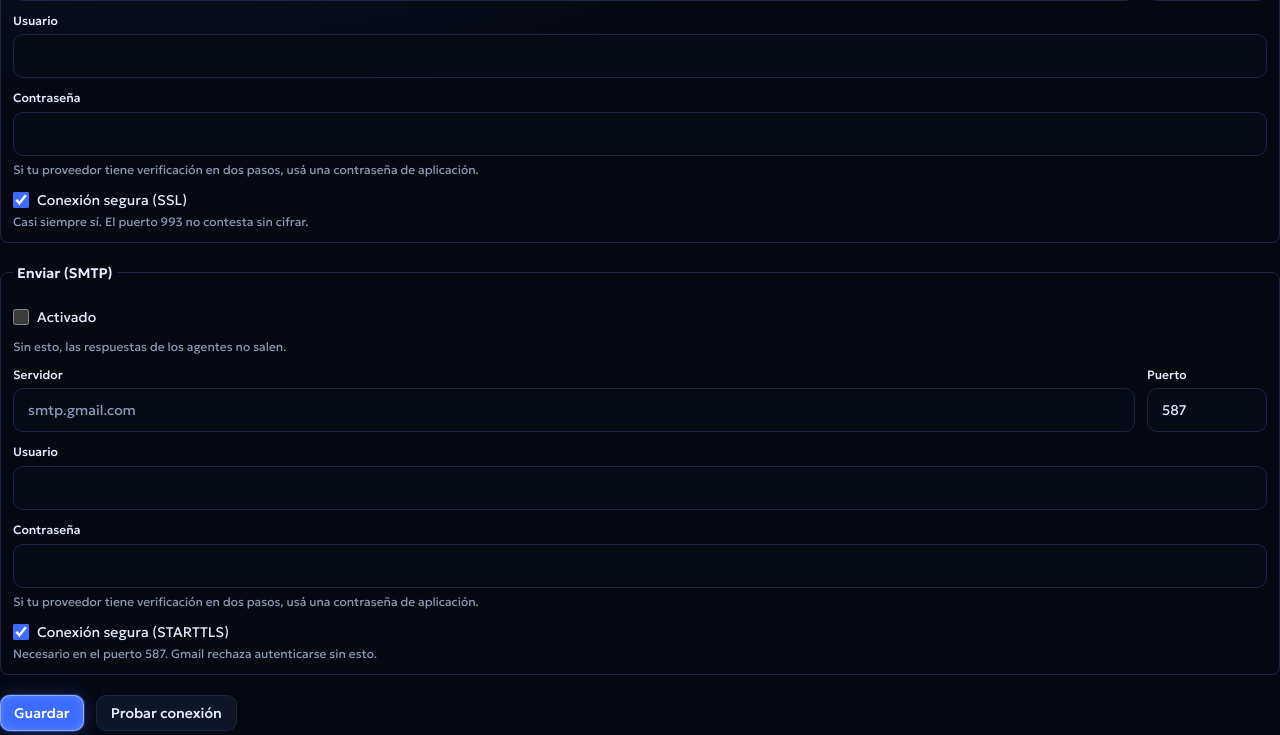
Test: EmailTransportPanel, testing the connection › does not report a side that is switched off as broken
(page scrolled)
Click the button "Probar conexión": point(166, 713) [96, 695, 237, 731]
(page scrolled)
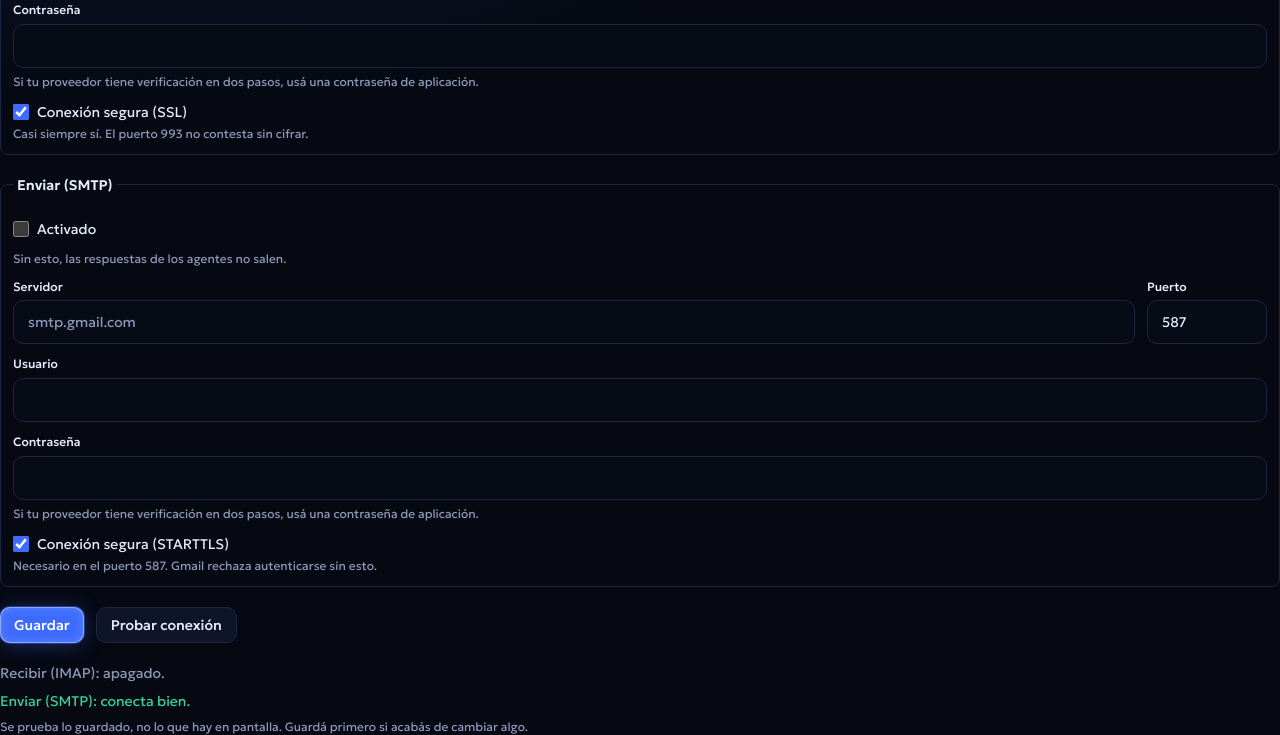
Expected: the text "Recibir (IMAP): apagado." is shown, [0, 664, 165, 682]
